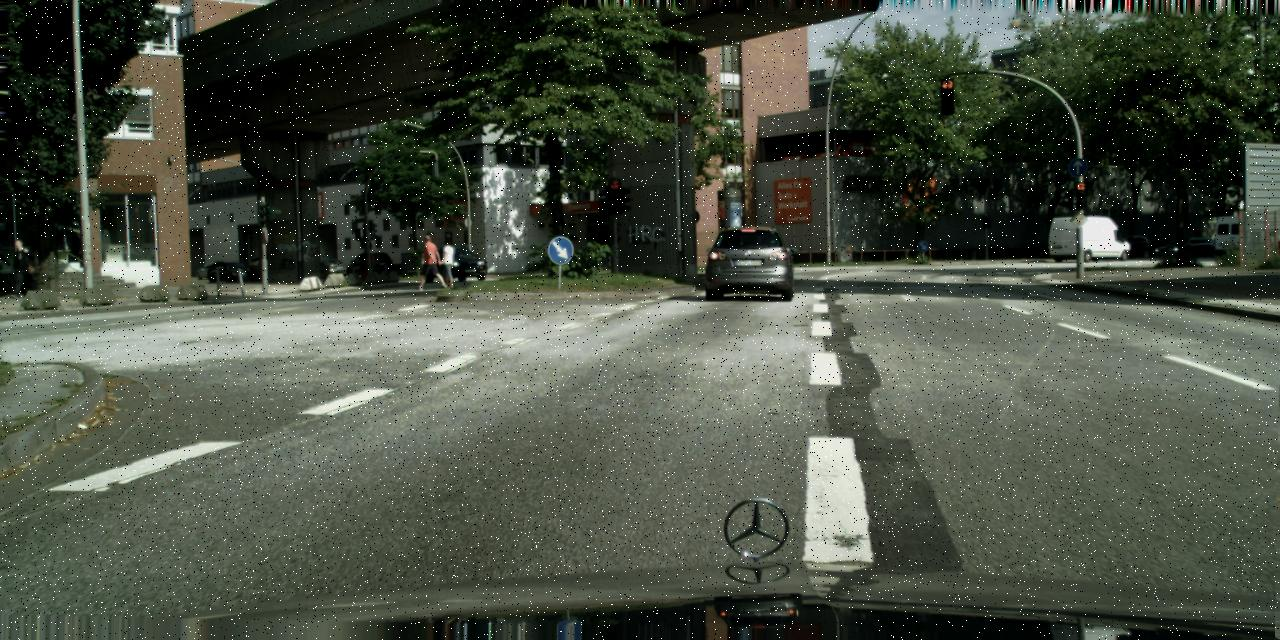ped: (10, 239, 32, 297), (418, 234, 441, 289), (436, 237, 456, 290), (356, 249, 371, 284)
